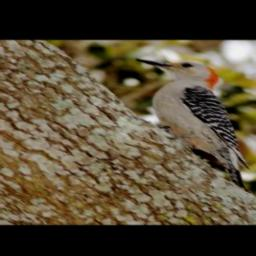Woodpecker: (131, 52, 256, 196)
